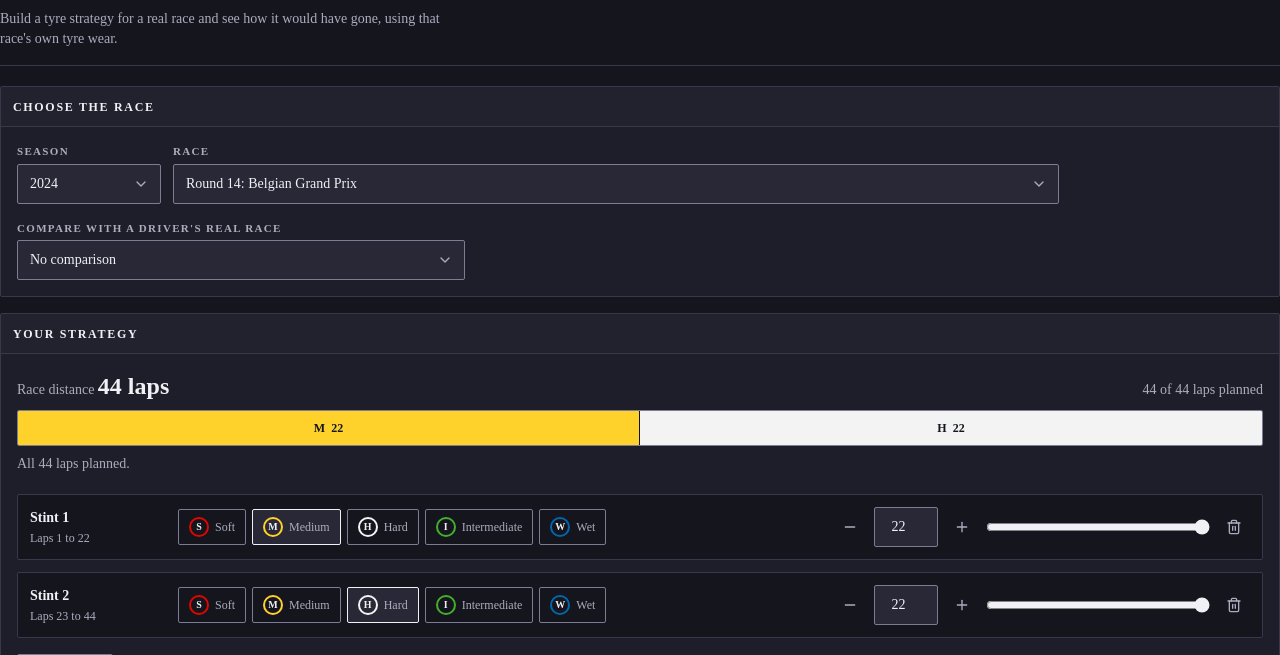
Test: StrategyTool › compares with a driver by running their real strategy through the same model too
Select "HAM Lewis Hamilton" in the dropdown labelled "Compare with a driver's real race" at x=241, y=260, box [17,240,465,280]
(page scrolled)
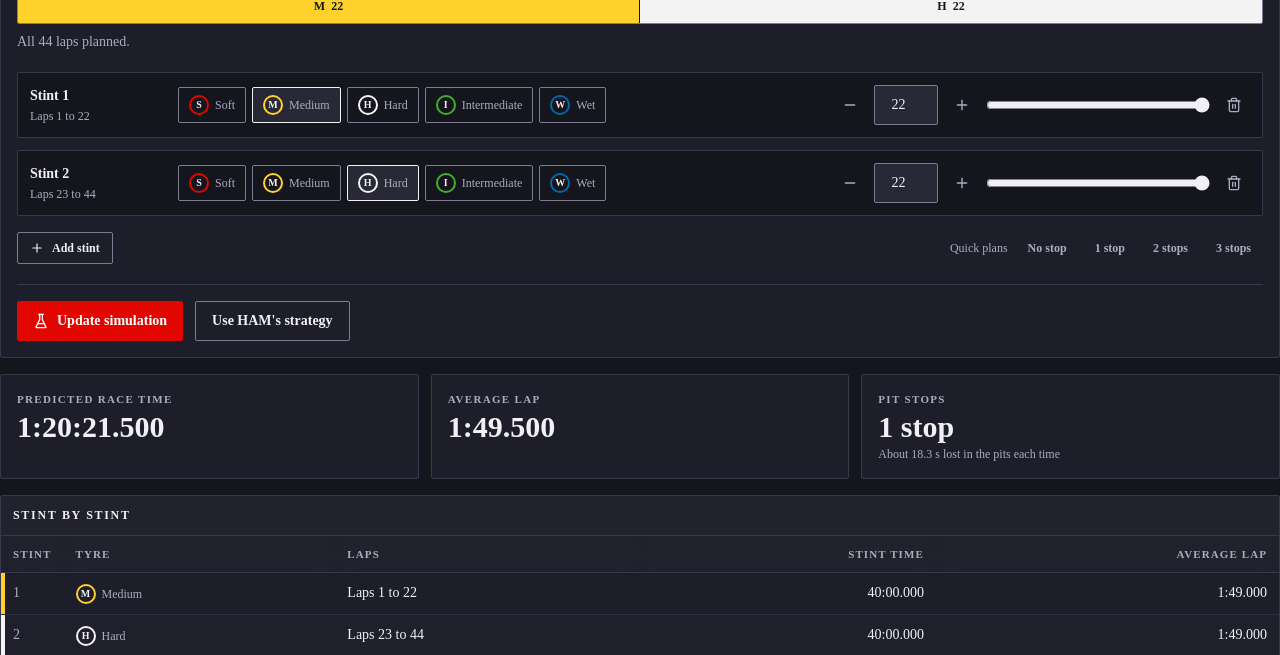
Click the button "Update simulation" at x=100, y=321, box [17,301,183,341]
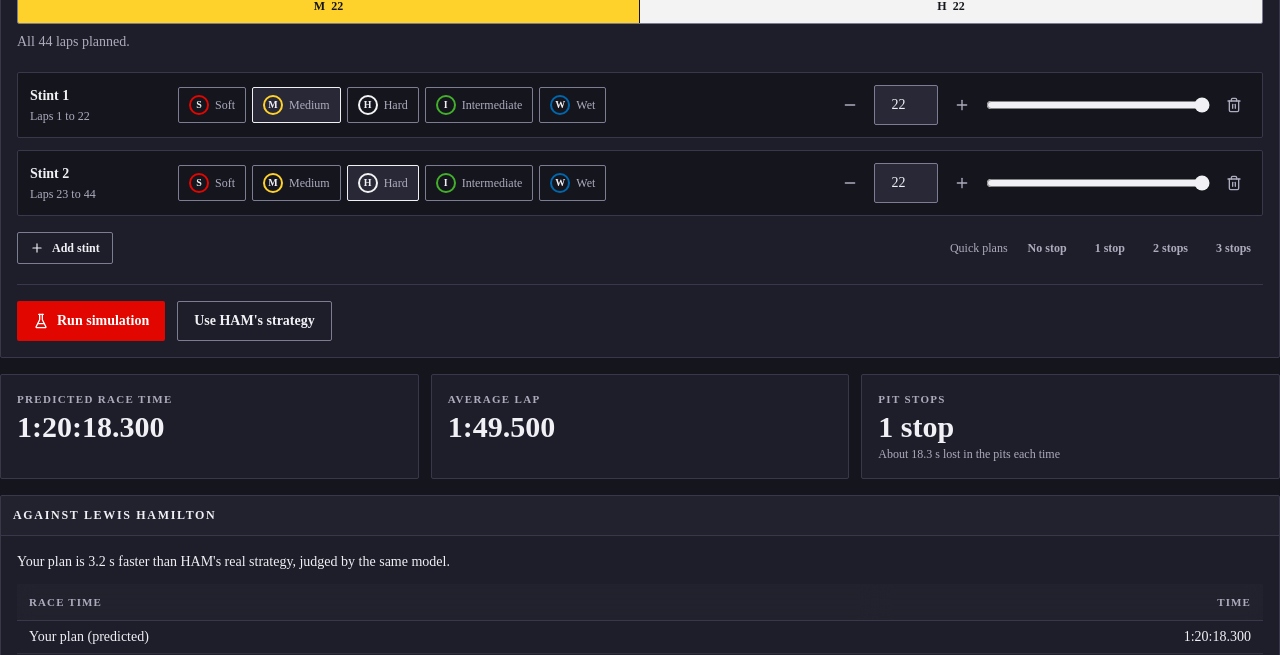
Expected: the text "Your plan is 3.2 s faster than HAM's real strategy" is shown, [17,554,450,568]
